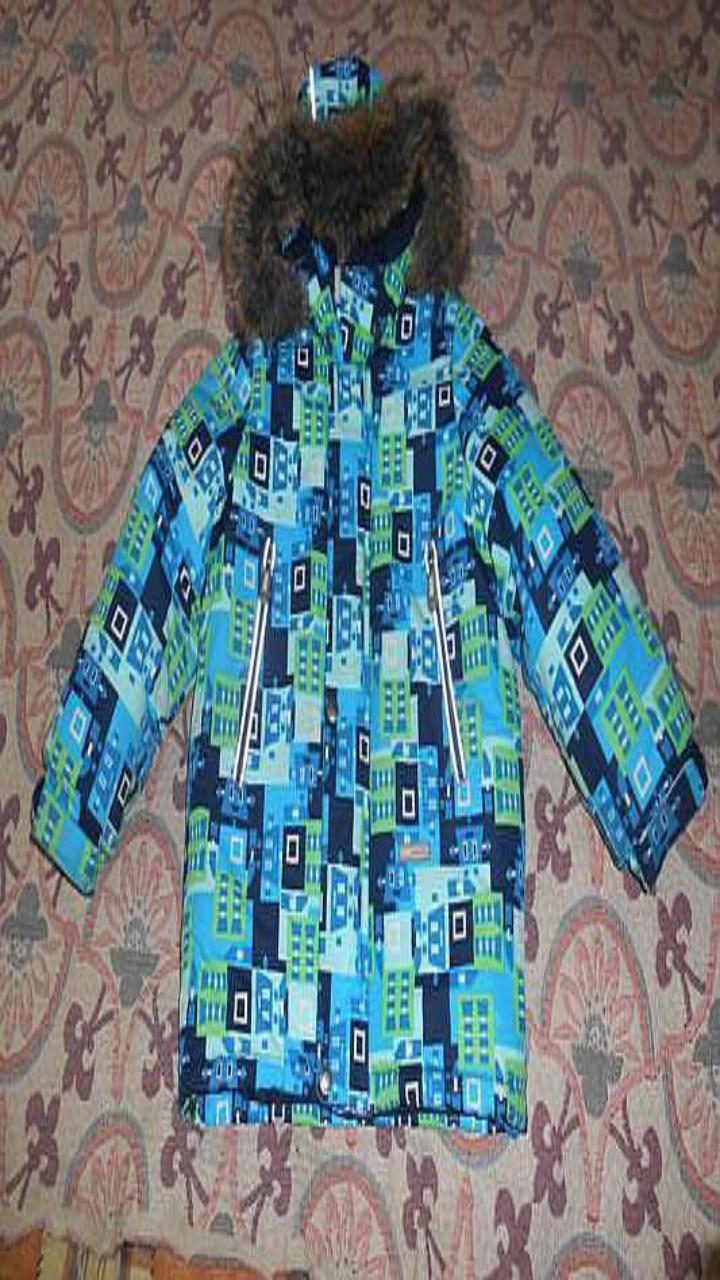Sports_Jacket: (32, 57, 706, 1132)
